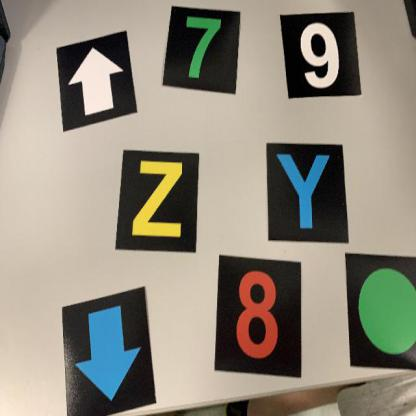7: (162, 5, 242, 97)
8: (214, 253, 303, 380)
9: (281, 10, 363, 98)
down: (61, 286, 159, 416)
go: (345, 252, 416, 371)
up: (56, 29, 139, 133)
y: (266, 142, 350, 245)
z: (114, 147, 201, 256)
